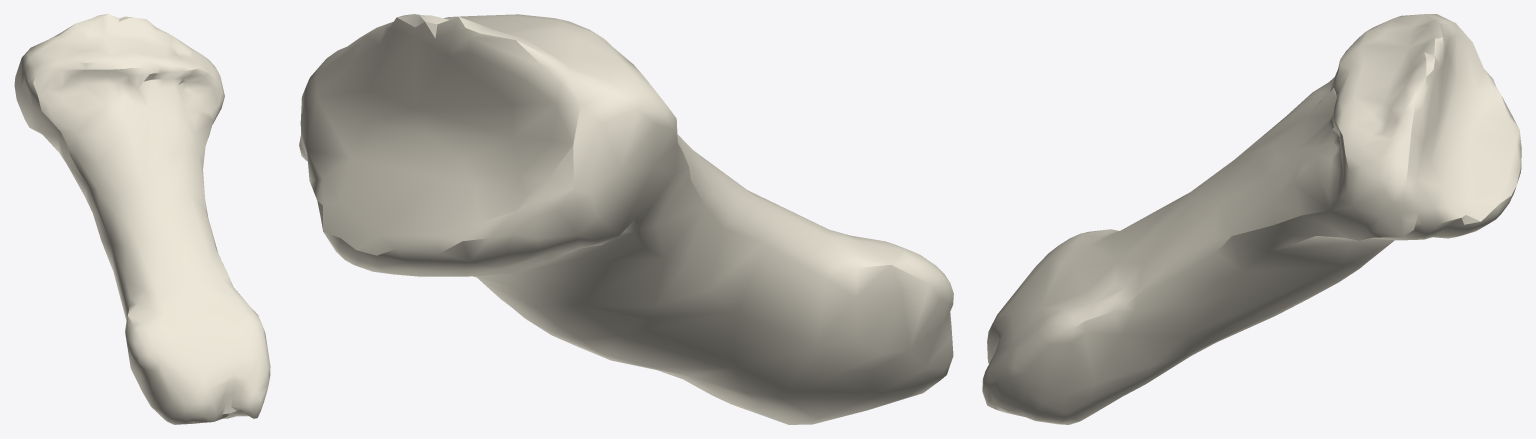
Rendered from fma24460_mm1893.glb.
3 renders of one model, left to right at view 1: azimuth 30°, elevation 25°; view 2: azimuth 150°, elevation 25°; view 3: azimuth 270°, elevation 25°, orthographic. The views are drawn at different scales.
Parts seen in each view (by area): view 1: FMA24460_MM1893; view 2: FMA24460_MM1893; view 3: FMA24460_MM1893.
Part boxes in pixels (left/top/right/bottom): FMA24460_MM1893: left=14, top=14, right=270, bottom=424; FMA24460_MM1893: left=299, top=14, right=953, bottom=424; FMA24460_MM1893: left=982, top=14, right=1521, bottom=424.
Size of the model in its own units: 0.0102 by 0.014 by 0.0171.
